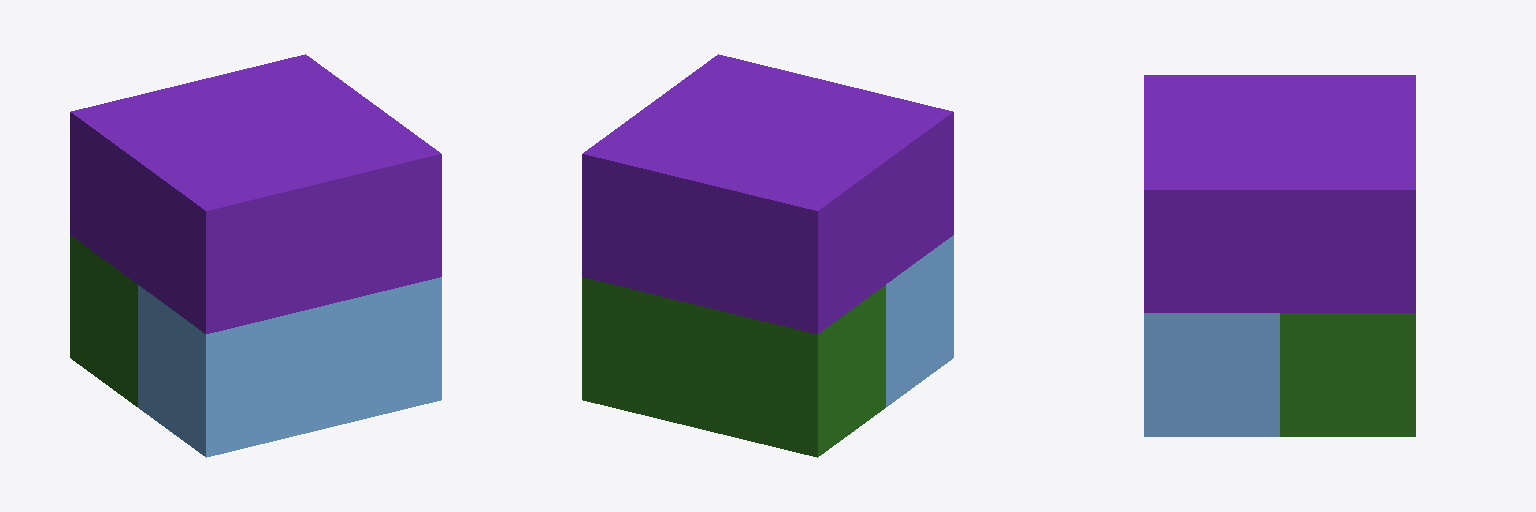
File: cells.obj
3 views of the same model, side by side, from view 1: azimuth 30°, elevation 25°; view 2: azimuth 150°, elevation 25°; view 3: azimuth 270°, elevation 25° (orthographic).
Visible parts, largest first — view 1: obj_1, obj_2, obj_3; view 2: obj_1, obj_3, obj_2; view 3: obj_1, obj_2, obj_3.
Part boxes in pixels (x1,y1,x2,y2): obj_1: (70, 54, 441, 333); obj_2: (138, 277, 441, 457); obj_3: (70, 235, 137, 406); obj_1: (582, 54, 953, 333); obj_3: (582, 277, 885, 457); obj_2: (886, 235, 953, 406); obj_1: (1144, 75, 1415, 312); obj_2: (1144, 313, 1279, 436); obj_3: (1280, 313, 1415, 436).
Size of the model in its own units: 100 by 100 by 100.